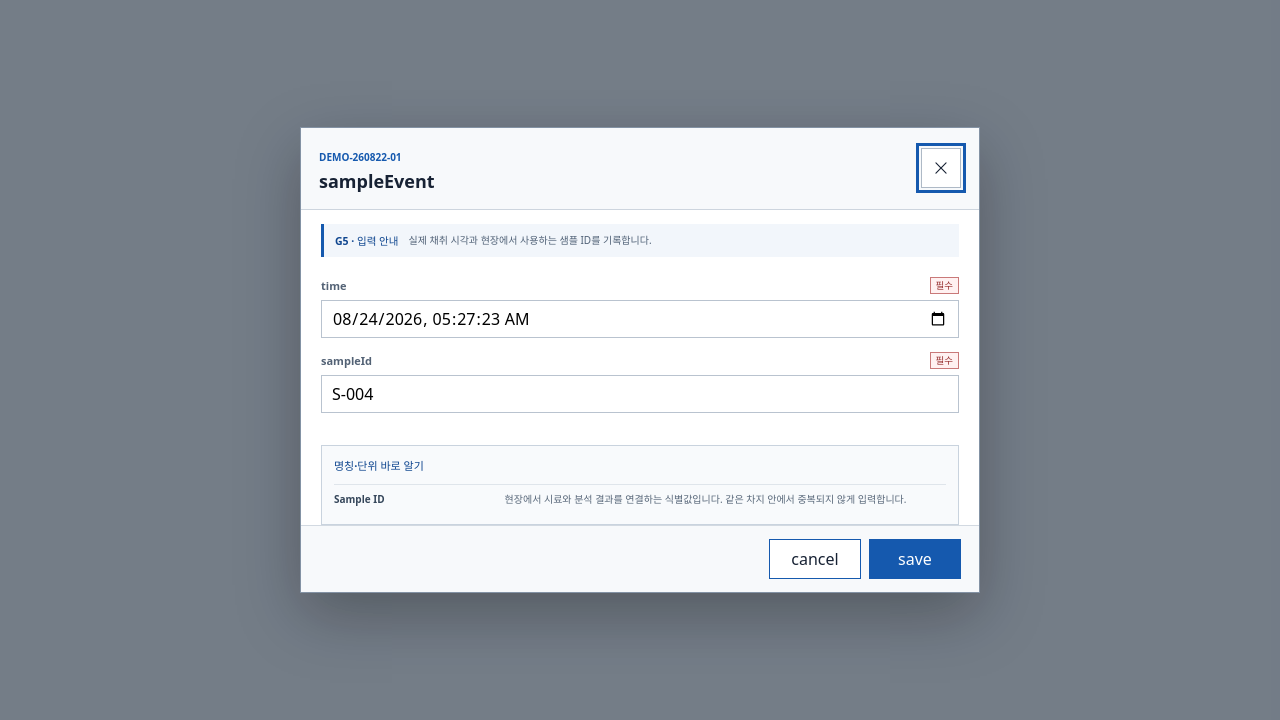
it: EventModal submissions › blocks a duplicate sample id
Replace the text in the field labelled "sampleId" with "S-DEMO-03" at point(640, 394), box top-left (321, 375), bottom-right (959, 413)
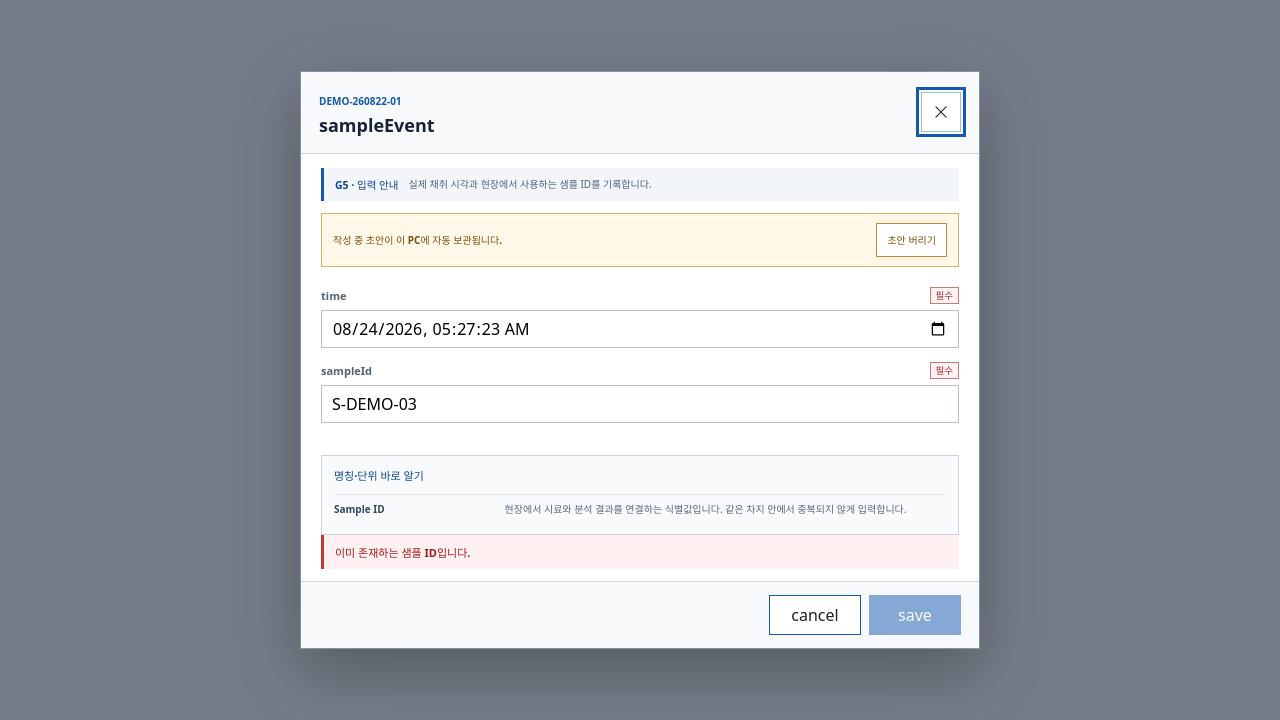
Expected: the button "save" is disabled, top-left (869, 595), bottom-right (961, 635)
